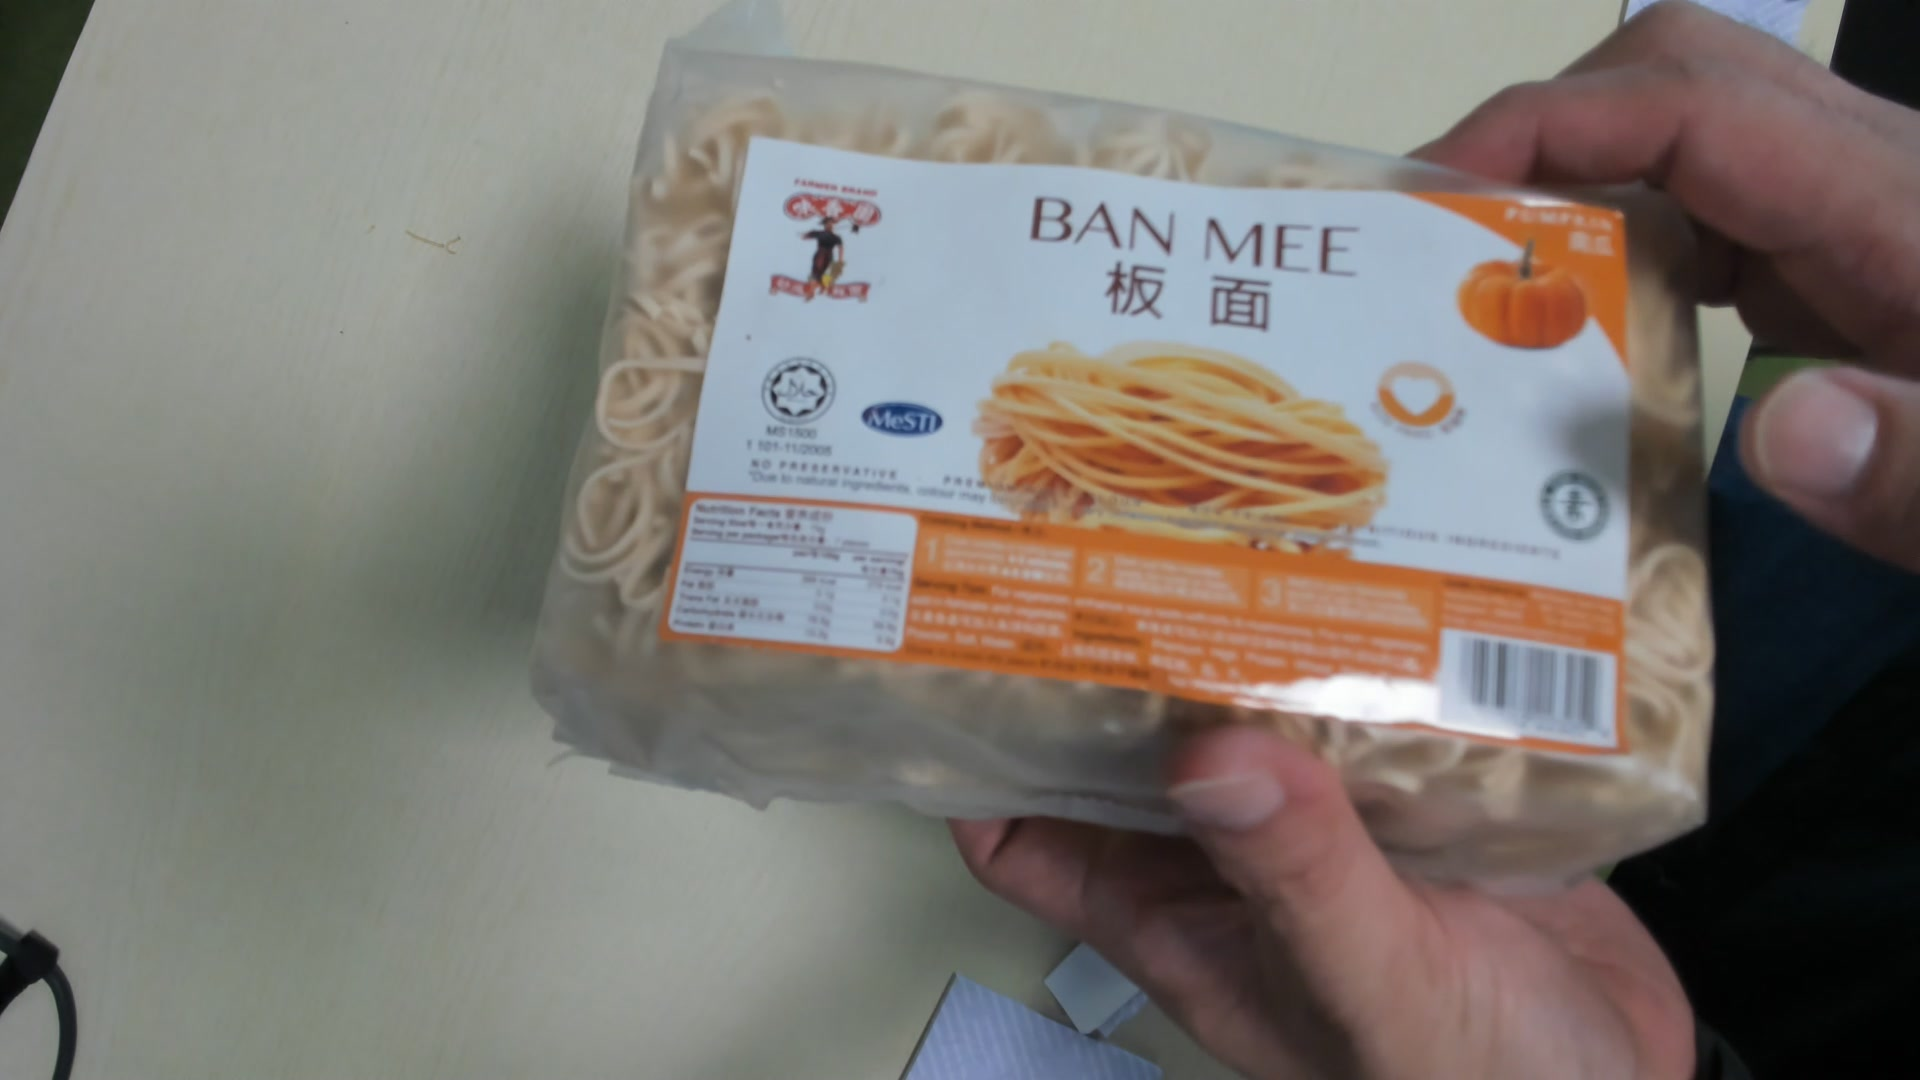OtherNoodles_500-599g_Halal_NonHealthy: (530, 40, 1724, 895)
